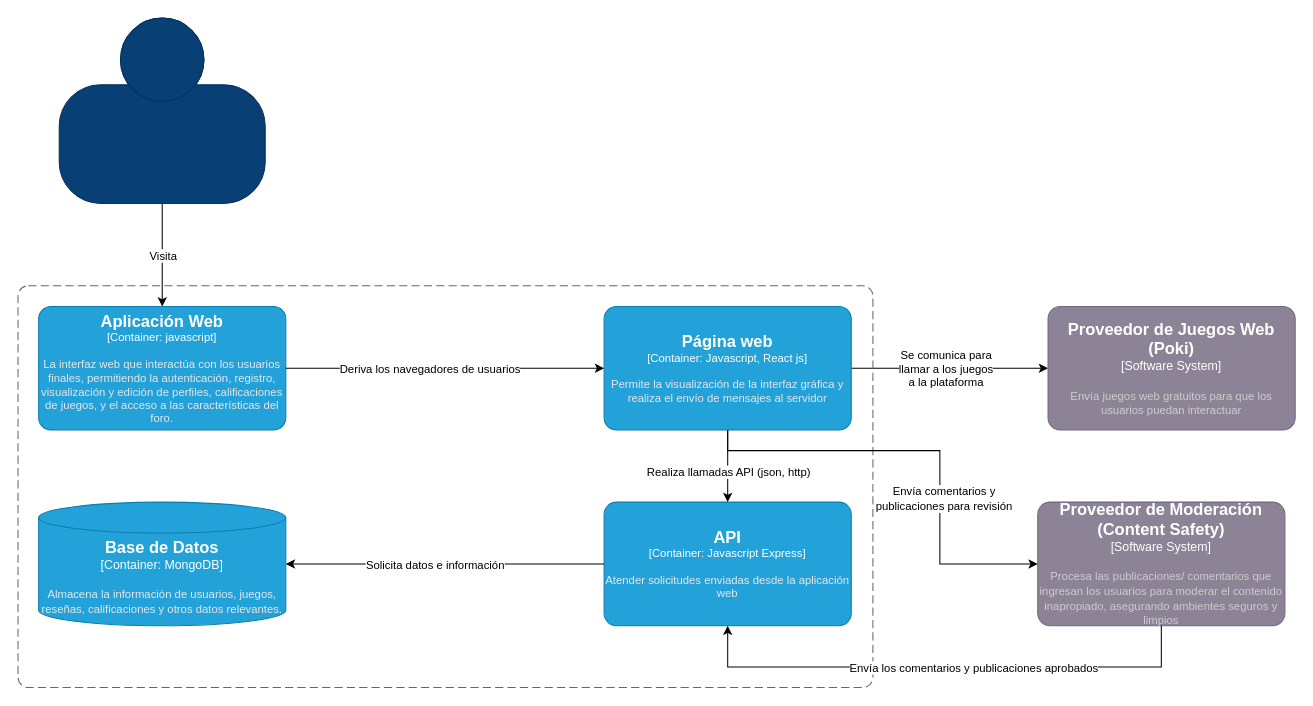
This 1313x706 diagram has some shape labels left out. The box of each missing label's shape, as (x1, y1, x2, y2) in pixels:
Sistema de Respawn Chatter [Container]: (17, 285, 873, 688)
Usuario [Person] Un usuario de foro, Respawn Chatter: (58, 17, 265, 203)
